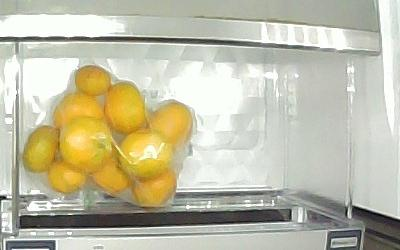tangerine_vinyl: (59, 117, 114, 173), (117, 130, 176, 179), (105, 80, 147, 134), (149, 100, 192, 149), (53, 93, 111, 129), (130, 167, 177, 208), (22, 126, 59, 173), (46, 158, 86, 193), (92, 157, 128, 193), (75, 65, 112, 98)
